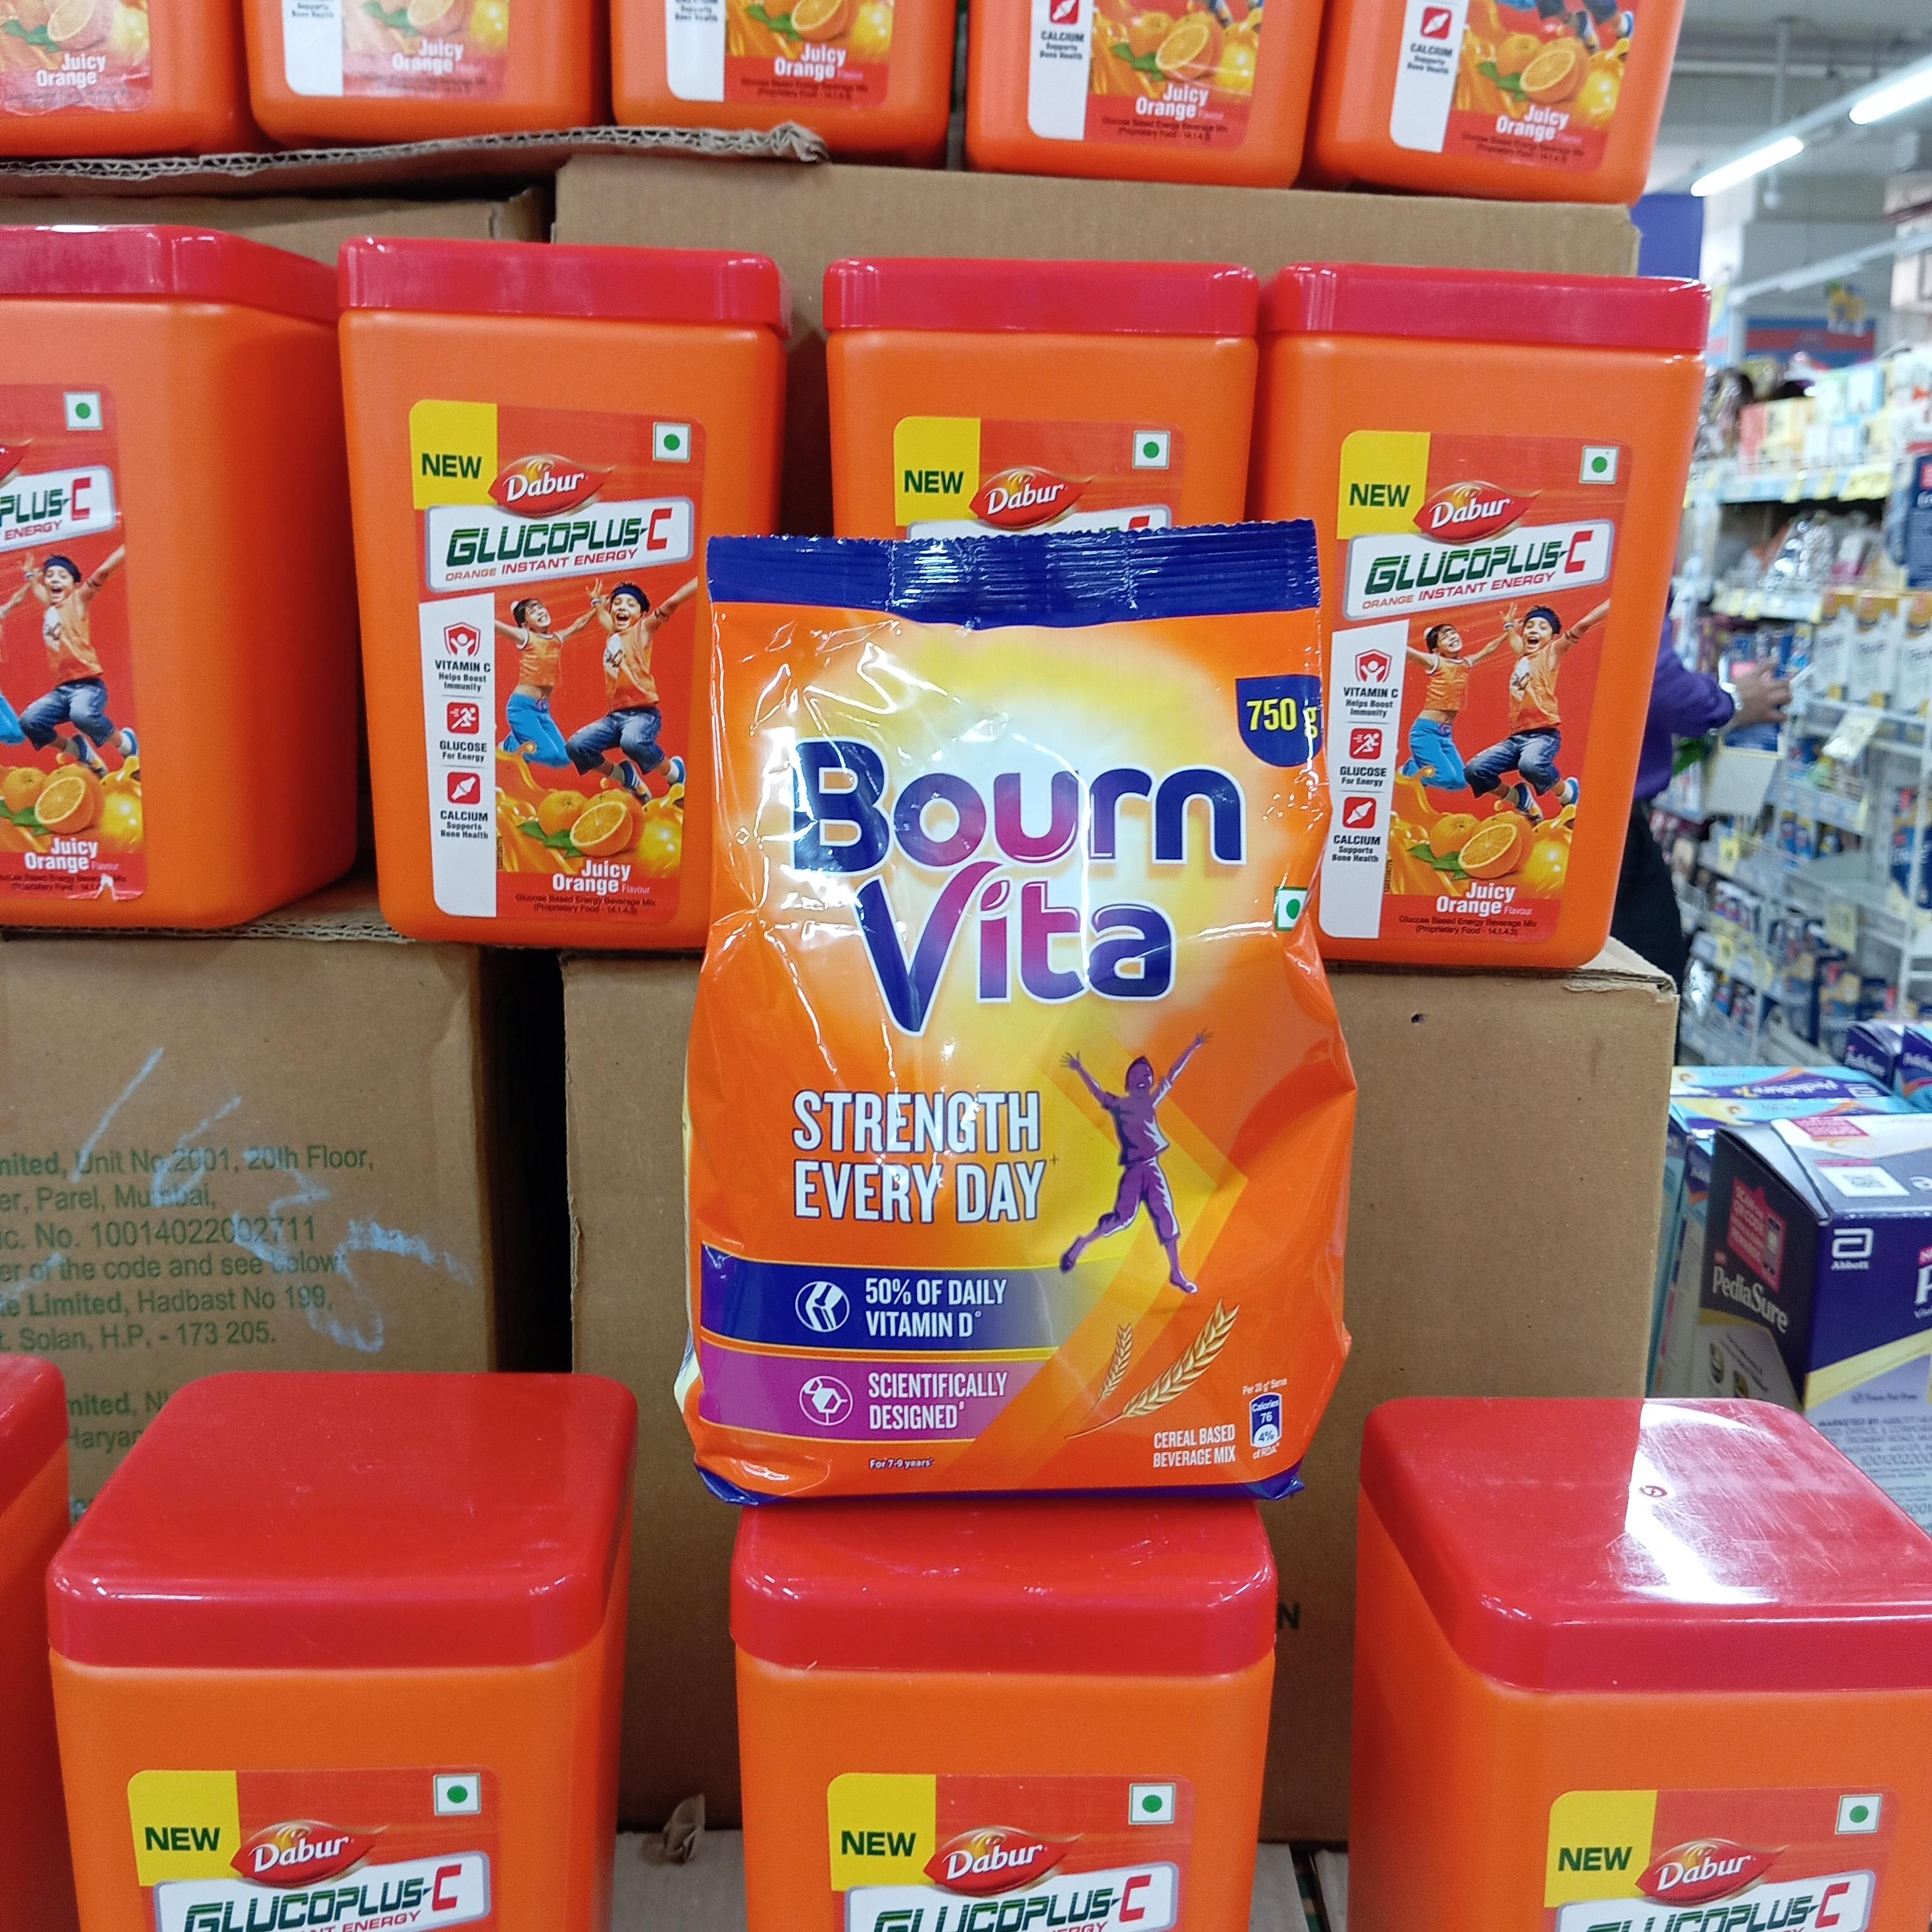BOURN_VITA_750_G_POUCH: (708, 510, 1346, 1490)
